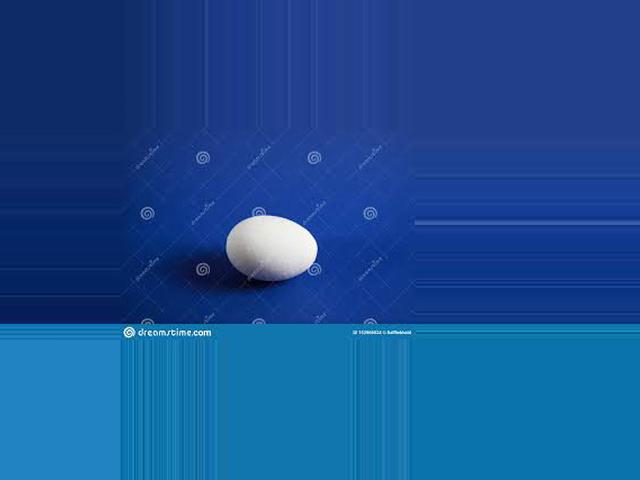egg: (226, 216, 318, 281)
